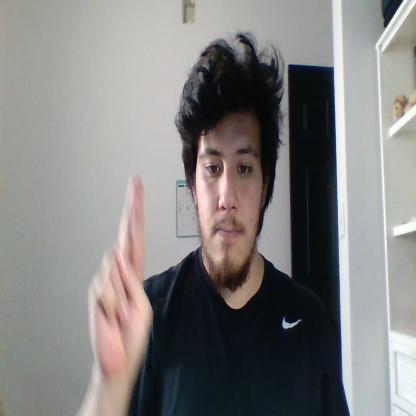R: (88, 173, 154, 377)
